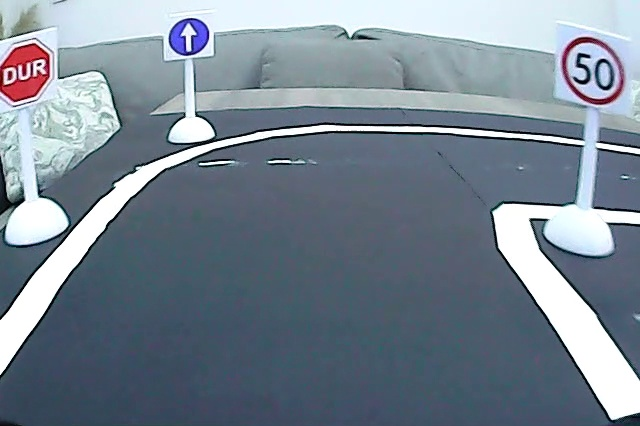speed limit 50: (558, 32, 627, 110)
stop sign: (1, 37, 59, 109)
